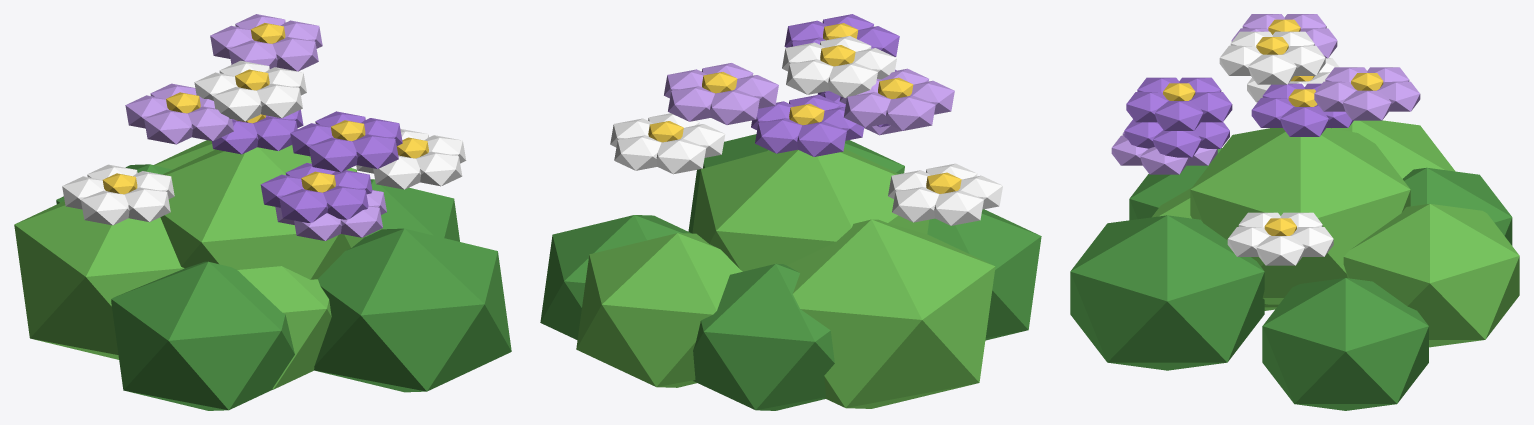
The model's file is flowers-purple.glb.
3 views of the same model, side by side, from view 1: azimuth 30°, elevation 25°; view 2: azimuth 150°, elevation 25°; view 3: azimuth 270°, elevation 25° (orthographic). The views are drawn at different scales.
Visible parts, largest first — view 1: flowers-purple; view 2: flowers-purple; view 3: flowers-purple.
Boxes of the visible parts, left/top/right/bottom form: flowers-purple: left=14, top=14, right=511, bottom=410; flowers-purple: left=540, top=14, right=1041, bottom=410; flowers-purple: left=1070, top=14, right=1519, bottom=410.
Bounding box in the file's own units: 0.5342 × 0.3832 × 0.5208.
